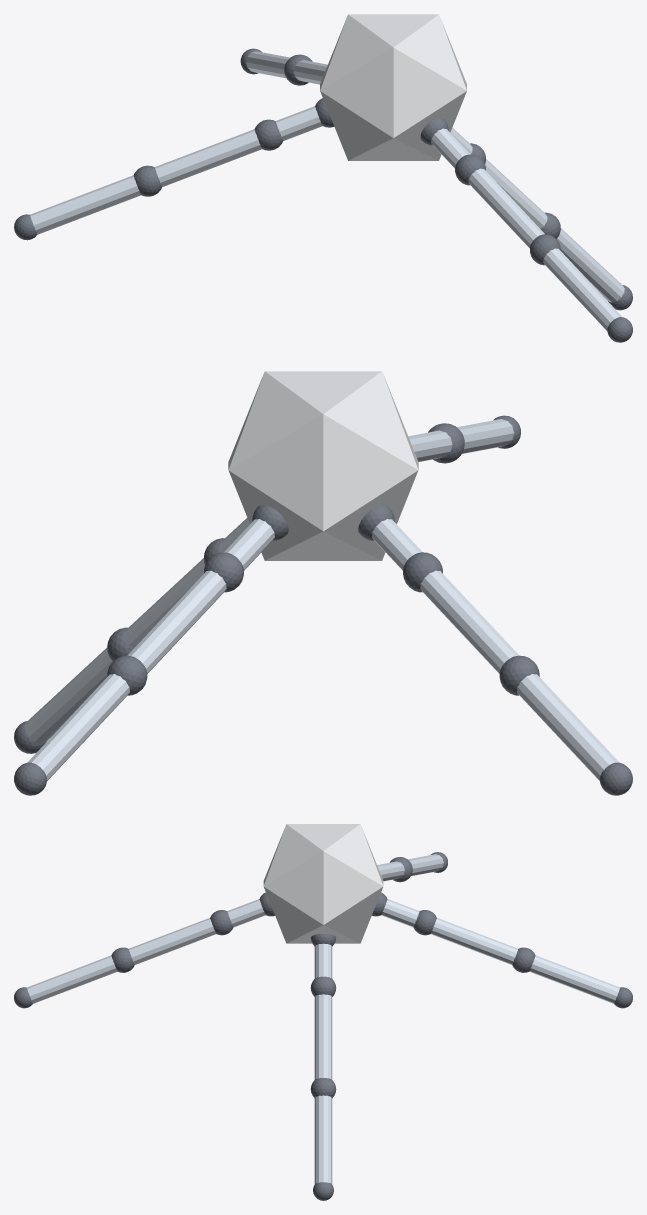
The model's file is g0_3333_0_abs.glb.
3 views of the same model, one above another, from view 1: azimuth 30°, elevation 25°; view 2: azimuth 150°, elevation 25°; view 3: azimuth 270°, elevation 25° (orthographic). The views are drawn at different scales.
Parts seen in each view (by area): view 1: geom_0, geom_13, geom_11, geom_20, geom_18, geom_27, geom_25, geom_9, geom_6, geom_16, geom_12, geom_10 (+4 smaller); view 2: geom_0, geom_6, geom_13, geom_4, geom_11, geom_27, geom_25, geom_20, geom_2, geom_9, geom_18, geom_5 (+8 smaller); view 3: geom_0, geom_27, geom_6, geom_20, geom_25, geom_4, geom_18, geom_2, geom_16, geom_23, geom_13.
Part boxes in pixels (x1,y1,x2,y2): geom_0: (320, 14, 466, 160); geom_13: (30, 175, 140, 234); geom_11: (154, 129, 261, 186); geom_20: (543, 248, 622, 330); geom_18: (468, 168, 544, 248); geom_27: (556, 228, 624, 302); geom_25: (485, 159, 547, 228); geom_9: (275, 106, 322, 140); geom_6: (246, 51, 289, 78); geom_16: (431, 128, 470, 168); geom_12: (133, 165, 161, 196); geom_10: (254, 119, 282, 150); geom_0: (228, 371, 418, 560); geom_6: (27, 674, 129, 780); geom_13: (516, 674, 619, 780); geom_4: (127, 570, 226, 673); geom_11: (420, 570, 518, 673); geom_27: (24, 647, 112, 743); geom_25: (124, 558, 204, 648); geom_20: (457, 419, 514, 453); geom_2: (224, 519, 274, 570); geom_9: (371, 519, 422, 570); geom_18: (408, 430, 452, 461); geom_5: (107, 655, 147, 695); geom_0: (263, 824, 383, 943); geom_27: (314, 1095, 332, 1184); geom_6: (529, 955, 619, 1003); geom_20: (27, 955, 117, 1003); geom_25: (314, 994, 332, 1079); geom_4: (431, 918, 518, 964); geom_18: (128, 918, 215, 964); geom_2: (381, 899, 419, 927); geom_16: (227, 899, 265, 927); geom_23: (314, 943, 332, 978); geom_13: (408, 854, 443, 876).
Bounding box in the file's own units: 0.5834 × 0.3465 × 0.7029.
